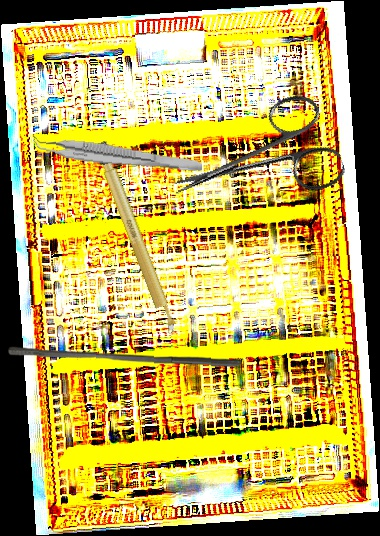Iris Scissors: (158, 87, 349, 237)
Pusher: (6, 345, 244, 368)
Scalpel Handle: (91, 140, 180, 338)
Tissue Forceps: (31, 133, 204, 174)
